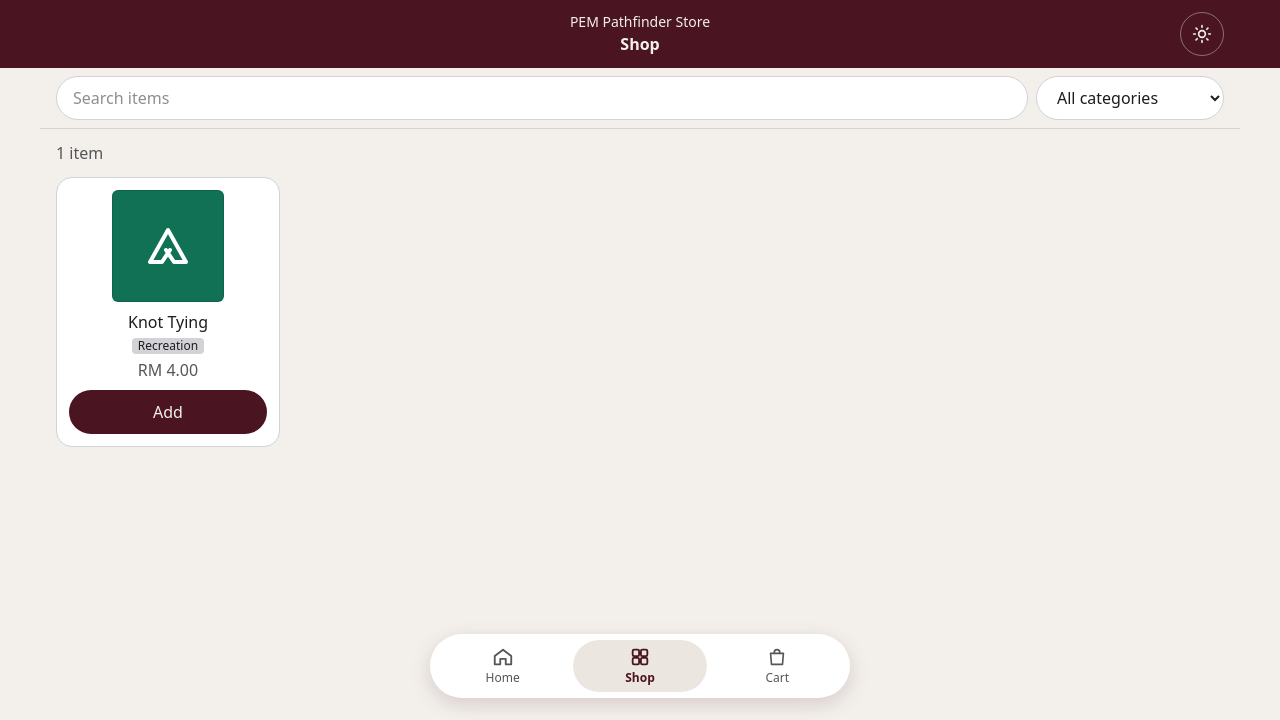
Test: App › grows the Cart tab when Add is pressed on a card
Click the button with aria-label "Add Knot Tying": (168, 412) [69, 390, 267, 434]
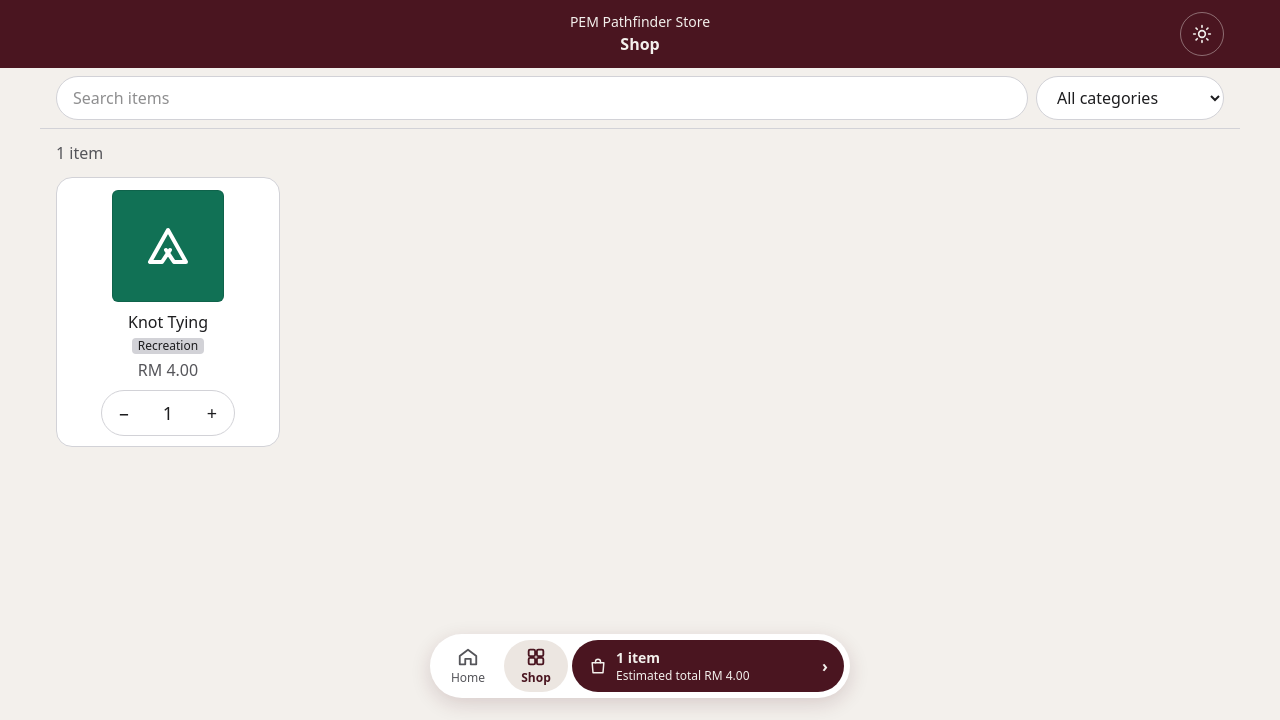
Now the link with aria-label "Cart, 1 item, estimated total RM 4.00" is shown, box [572, 640, 844, 692]
Click the button named "One more Knot Tying": (212, 413) [190, 391, 234, 435]
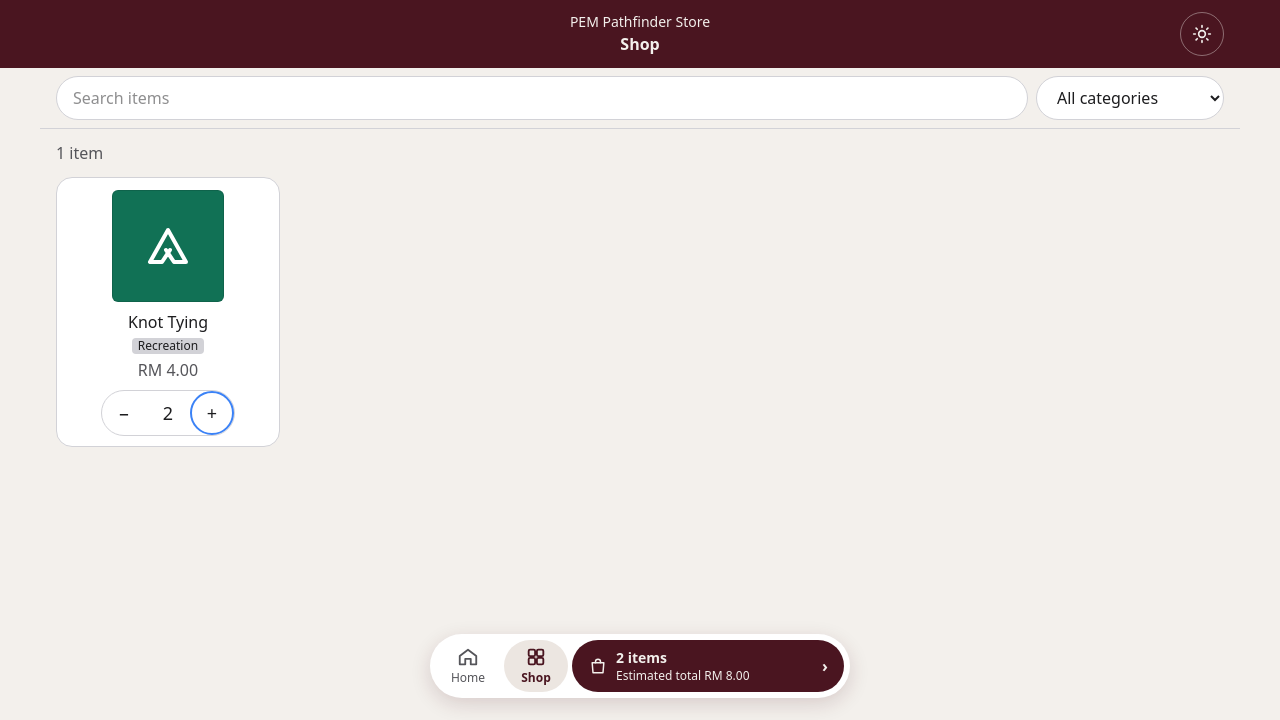
Now the link with aria-label "Cart, 2 items, estimated total RM 8.00" is shown, box [572, 640, 844, 692]
